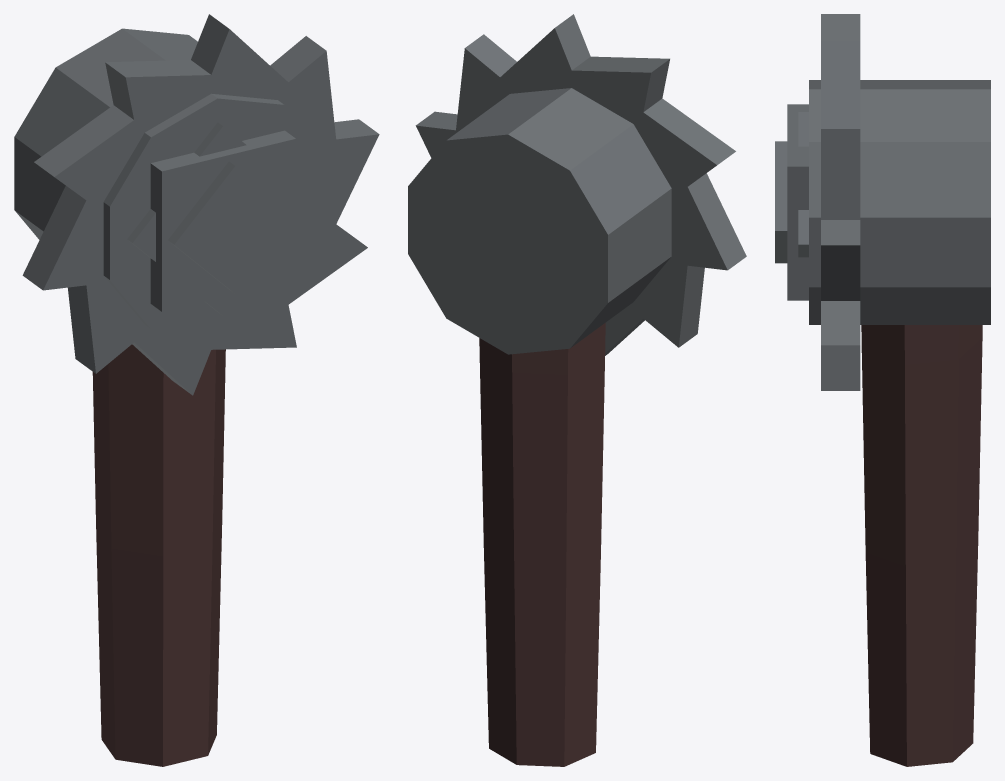
The model's file is DarkWoodMechBrokenPendulum1.fbx.
3 renders of one model, left to right at view 1: azimuth 30°, elevation 25°; view 2: azimuth 150°, elevation 25°; view 3: azimuth 270°, elevation 25°, orthographic. The views are drawn at different scales.
Visible parts, largest first — view 1: DarkWoodMechBrokenPendulum1; view 2: DarkWoodMechBrokenPendulum1; view 3: DarkWoodMechBrokenPendulum1.
Boxes of the visible parts, box(x1,y1,x2,y2) form: DarkWoodMechBrokenPendulum1: box(14, 14, 379, 766); DarkWoodMechBrokenPendulum1: box(408, 14, 746, 766); DarkWoodMechBrokenPendulum1: box(775, 14, 990, 766).
Size of the model in its own units: 520 by 1103 by 303.
